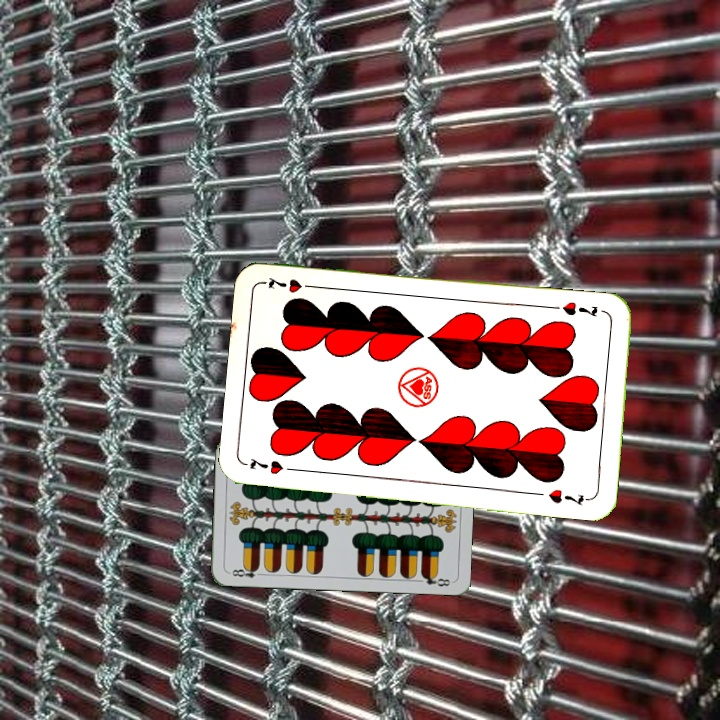E8: (225, 563, 266, 580)
H7: (246, 454, 302, 477), (558, 297, 601, 320)
